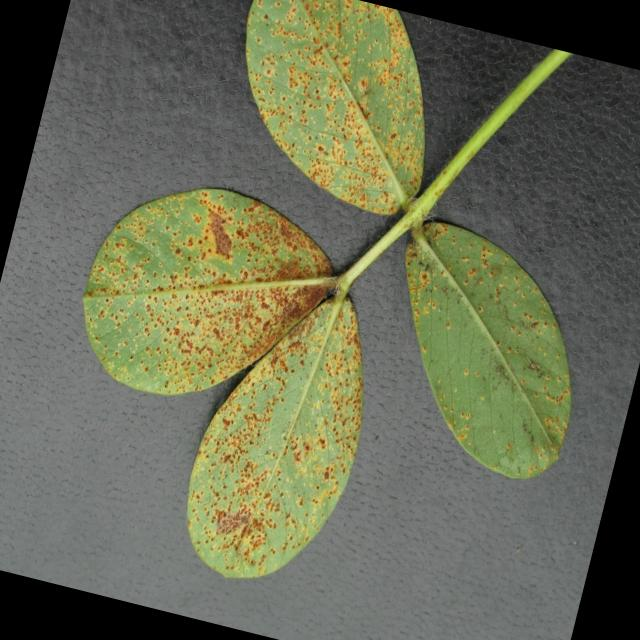leaf_rust: (83, 190, 330, 394), (186, 297, 362, 577), (246, 0, 423, 213)
